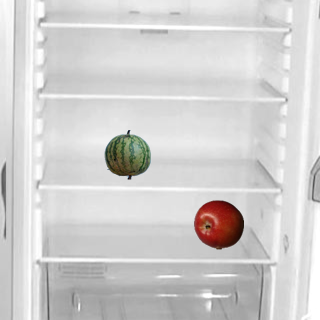Apple Braeburn: (193, 199, 243, 249)
Watermelon: (102, 129, 152, 179)
